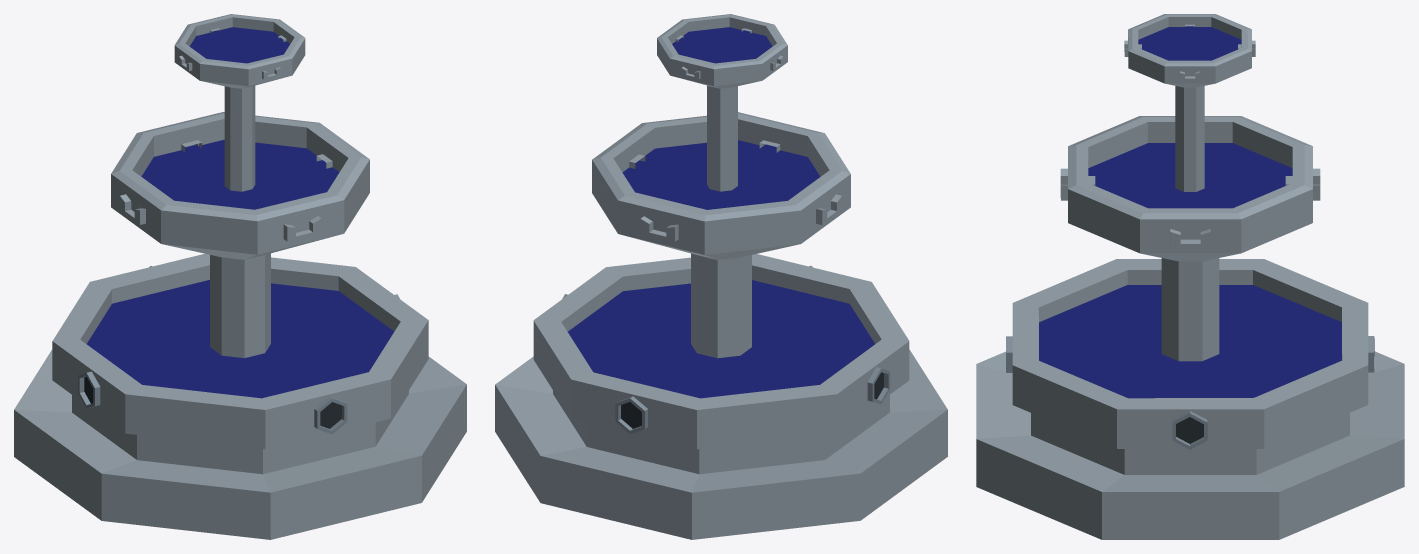
File: Fontaine0.obj
3 views of the same model, side by side, from view 1: azimuth 30°, elevation 25°; view 2: azimuth 150°, elevation 25°; view 3: azimuth 270°, elevation 25° (orthographic).
Visible parts, largest first — view 1: Cylinder.044, Cylinder.045, Cylinder.046, Cylinder.047, Cylinder.041, Cylinder.042; view 2: Cylinder.044, Cylinder.045, Cylinder.046, Cylinder.047, Cylinder.043, Cylinder.042; view 3: Cylinder.044, Cylinder.045, Cylinder.046, Cylinder.047, Cylinder.040.
Boxes of the visible parts, box(x1,y1,x2,y2) form: Cylinder.044: box(14, 14, 466, 539); Cylinder.045: box(87, 280, 394, 398); Cylinder.046: box(141, 139, 339, 209); Cylinder.047: box(189, 27, 289, 63); Cylinder.041: box(314, 396, 347, 434); Cylinder.042: box(78, 371, 100, 408); Cylinder.044: box(495, 14, 947, 539); Cylinder.045: box(568, 280, 874, 398); Cylinder.046: box(622, 140, 820, 209); Cylinder.047: box(672, 27, 772, 63); Cylinder.043: box(615, 396, 647, 434); Cylinder.042: box(867, 367, 890, 404); Cylinder.044: box(976, 14, 1404, 539); Cylinder.045: box(1039, 285, 1341, 398); Cylinder.046: box(1088, 143, 1292, 208); Cylinder.047: box(1138, 26, 1241, 60); Cylinder.040: box(1172, 411, 1207, 449).
Size of the model in its own units: 4.74 by 5 by 4.74.
Materials: 1 (1 with a texture image).
